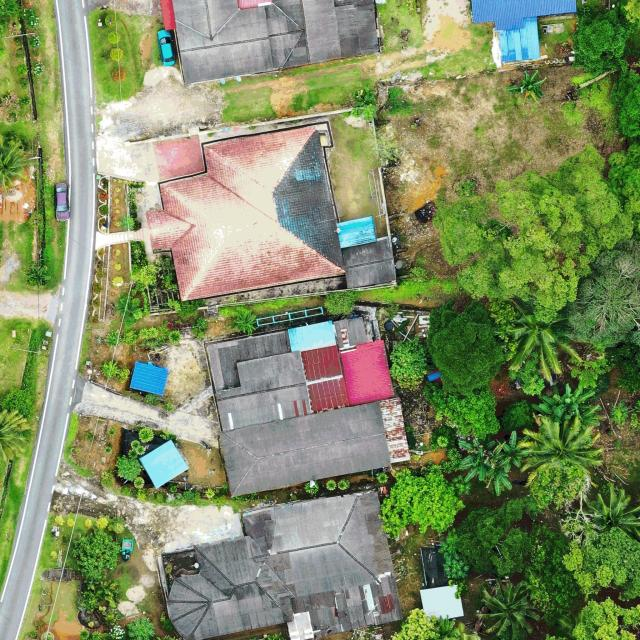Tree: (491, 146, 631, 263), (455, 227, 580, 318), (562, 234, 640, 350), (426, 299, 505, 394), (457, 496, 544, 576), (519, 412, 604, 483), (380, 471, 464, 537), (562, 526, 640, 595), (507, 317, 585, 384), (422, 382, 501, 438), (476, 580, 541, 639), (581, 484, 640, 546), (532, 379, 603, 424), (71, 527, 122, 579), (388, 337, 432, 388), (0, 134, 33, 191), (0, 408, 33, 463), (460, 438, 497, 483), (496, 431, 530, 472), (513, 70, 548, 103), (2, 386, 34, 417), (323, 288, 358, 316), (484, 466, 514, 494), (232, 304, 258, 335), (125, 616, 156, 640), (116, 454, 142, 482), (137, 426, 155, 442)
